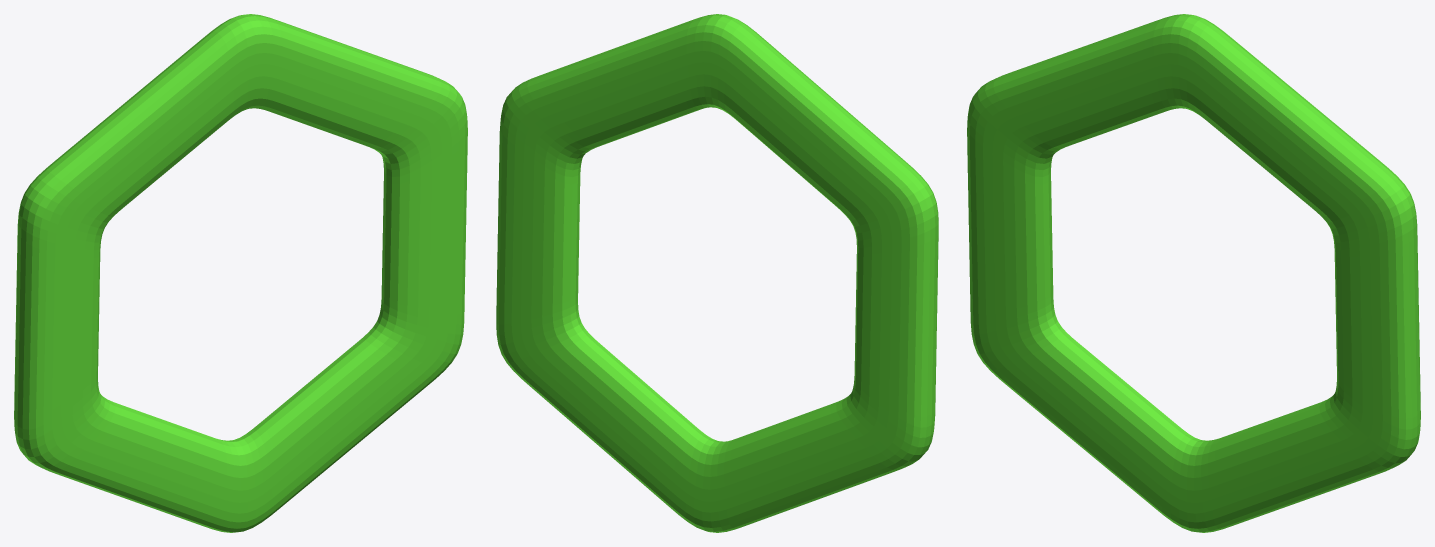
Rendered from collect.fbx.
The picture shows the model from 3 angles, left to right: view 1: azimuth 30°, elevation 25°; view 2: azimuth 150°, elevation 25°; view 3: azimuth 330°, elevation 25°; orthographic projection. The views are drawn at different scales.
Parts seen in each view (by area): view 1: Torus.005; view 2: Torus.005; view 3: Torus.005.
Boxes of the visible parts, x1,y1,x2,y2 form: Torus.005: (14, 14, 467, 532); Torus.005: (496, 14, 938, 532); Torus.005: (967, 14, 1420, 532).
Bounding box in the file's own units: 117 × 131 × 14.09.
